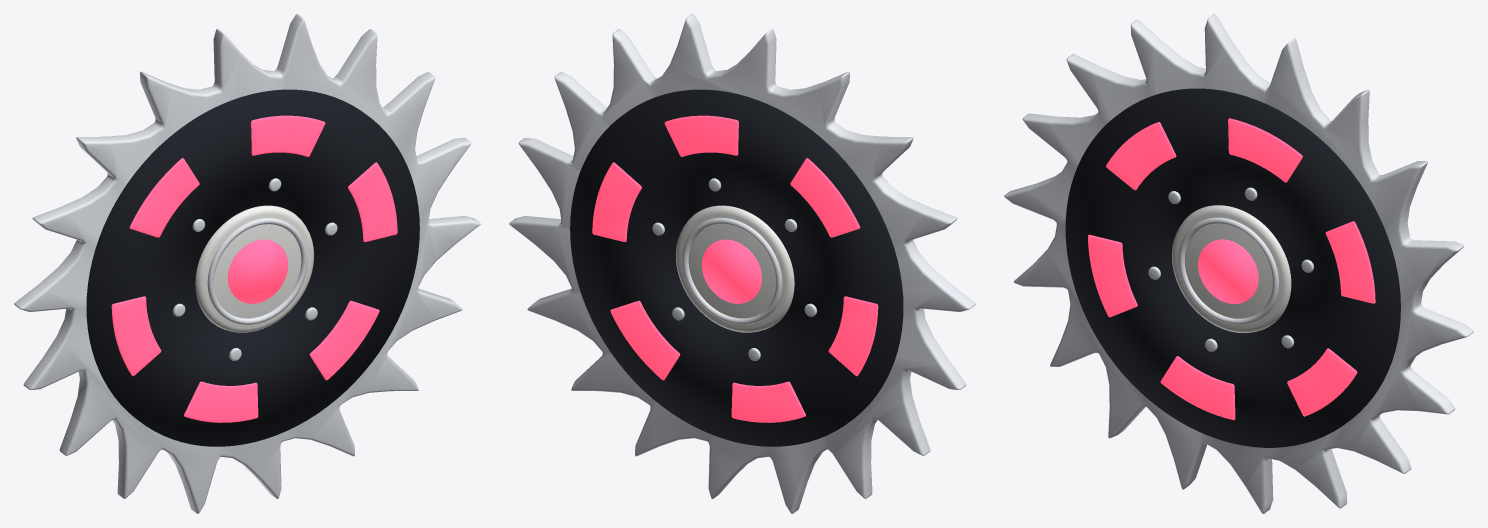
File: saw.glb
3 renders of one model, left to right at view 1: azimuth 30°, elevation 25°; view 2: azimuth 150°, elevation 25°; view 3: azimuth 330°, elevation 25°, orthographic.
Parts seen in each view (by area): view 1: Body, Teeth, Hub, Core+1, Vent1, Vent5, Vent3, Vent4, Vent0, Vent2, HubRing+1; view 2: Body, Teeth, Hub, Core-1, Vent1, Vent5, Vent3, Vent4, Vent0, Vent2, HubRing-1; view 3: Body, Teeth, Hub, Core+1, Vent0, Vent3, Vent1, Vent4, Vent5, Vent2, HubRing+1.
Boxes of the visible parts, bbox=[...] form: Body: bbox=[86, 89, 419, 446]; Teeth: bbox=[14, 14, 480, 513]; Hub: bbox=[195, 205, 313, 332]; Core+1: bbox=[228, 239, 288, 303]; Vent1: bbox=[251, 115, 325, 156]; Vent5: bbox=[309, 300, 379, 380]; Vent3: bbox=[111, 296, 161, 376]; Vent4: bbox=[184, 381, 258, 422]; Vent0: bbox=[348, 162, 397, 241]; Vent2: bbox=[129, 158, 199, 237]; HubRing+1: bbox=[207, 217, 307, 324]; Body: bbox=[570, 89, 903, 446]; Teeth: bbox=[509, 14, 975, 513]; Hub: bbox=[676, 205, 794, 332]; Core-1: bbox=[701, 239, 761, 303]; Vent1: bbox=[664, 115, 738, 156]; Vent5: bbox=[610, 300, 680, 380]; Vent3: bbox=[828, 296, 878, 376]; Vent4: bbox=[731, 381, 805, 422]; Vent0: bbox=[592, 162, 641, 241]; Vent2: bbox=[790, 158, 860, 237]; HubRing-1: bbox=[682, 217, 782, 324]; Body: bbox=[1065, 88, 1400, 447]; Teeth: bbox=[1004, 14, 1473, 513]; Hub: bbox=[1172, 205, 1291, 333]; Core+1: bbox=[1198, 239, 1258, 303]; Vent0: bbox=[1325, 221, 1375, 303]; Vent3: bbox=[1088, 234, 1137, 317]; Vent1: bbox=[1228, 118, 1302, 182]; Vent4: bbox=[1160, 356, 1235, 420]; Vent5: bbox=[1287, 348, 1357, 416]; Vent2: bbox=[1106, 122, 1176, 190]; HubRing+1: bbox=[1178, 217, 1278, 325].
Size of the model in its own units: 0.9337 by 0.9289 by 0.082.
